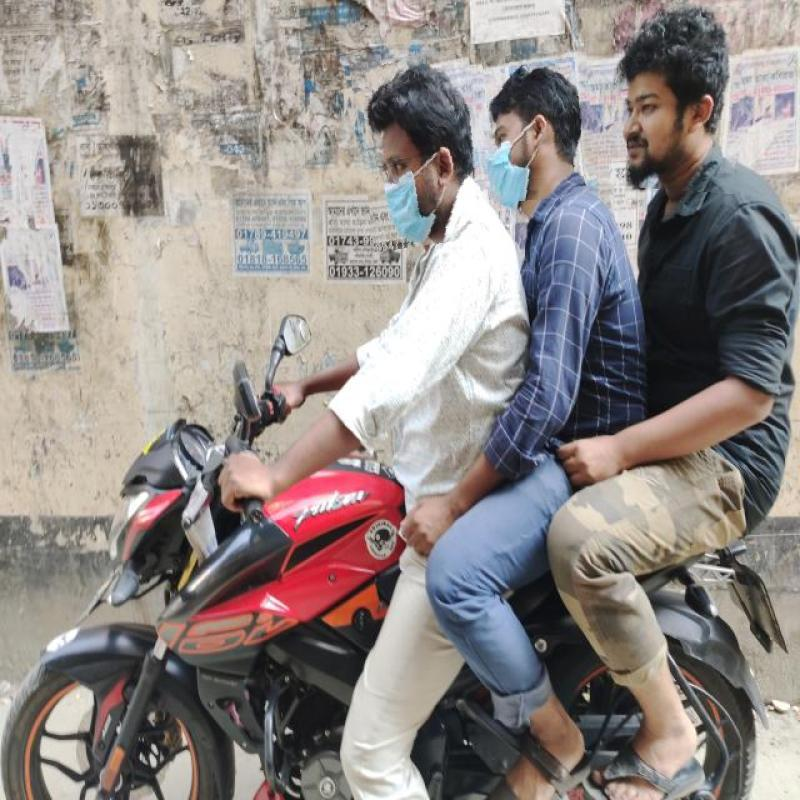nohelmet: (356, 52, 488, 248), (612, 2, 744, 192), (485, 51, 596, 201)
